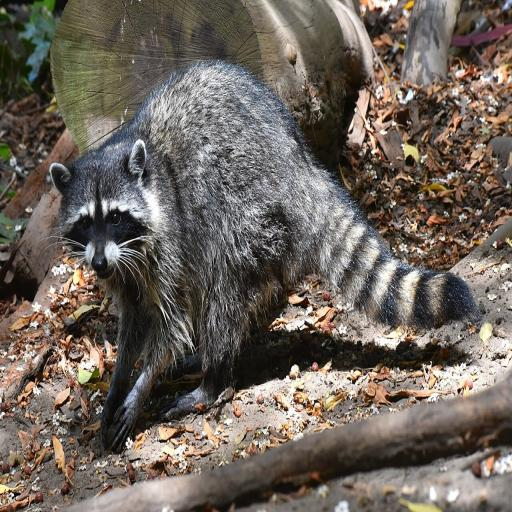raccoon: (51, 62, 479, 450)
